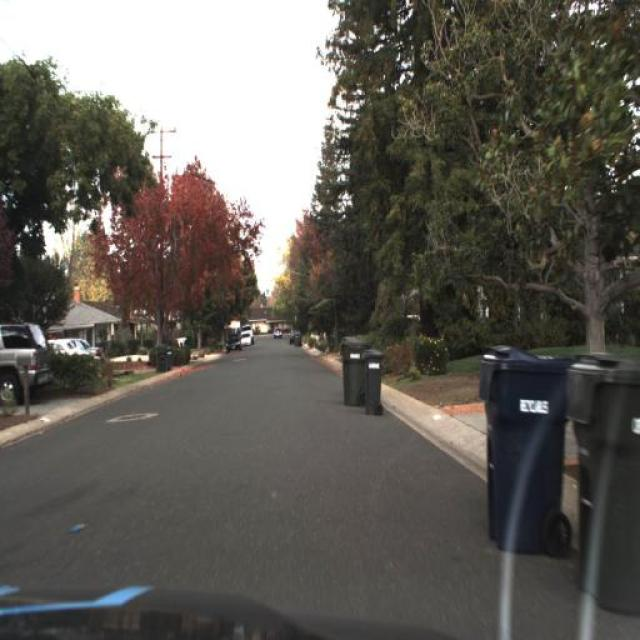car: (0, 320, 48, 408), (44, 332, 84, 372), (73, 334, 104, 360), (85, 337, 104, 364), (239, 323, 255, 348), (225, 334, 241, 354), (288, 326, 302, 344), (274, 327, 282, 338)
